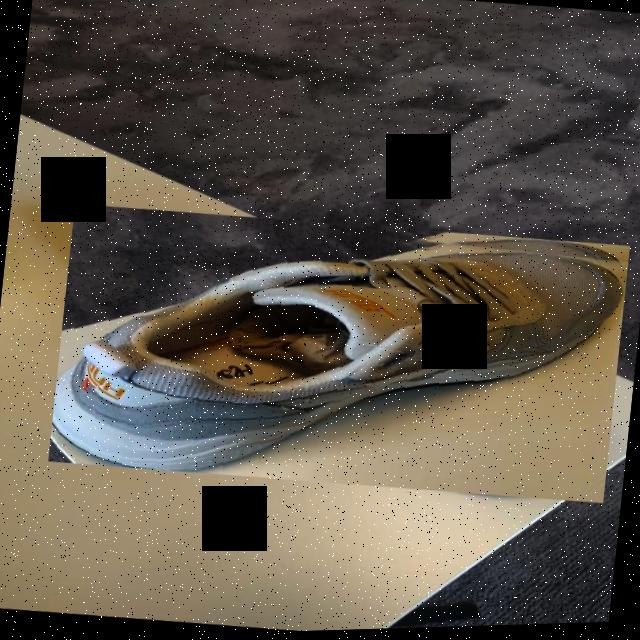shoe: (48, 191, 630, 519)
